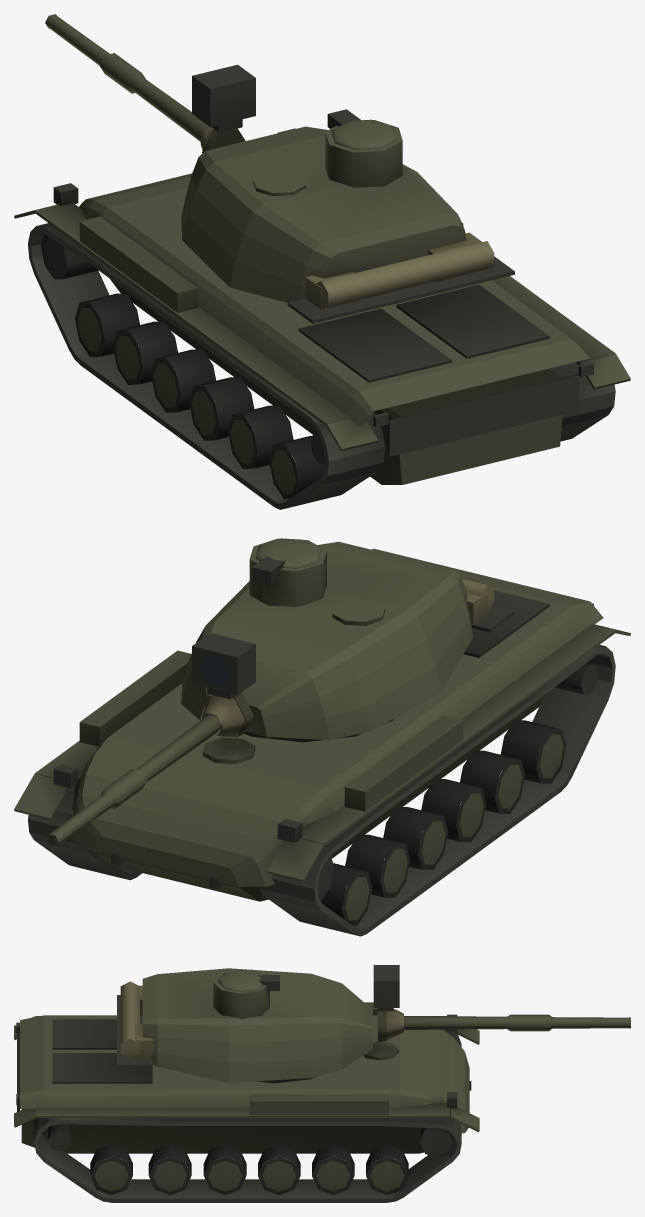
The picture shows the model from 3 angles, top to bottom: view 1: azimuth 30°, elevation 25°; view 2: azimuth 150°, elevation 25°; view 3: azimuth 270°, elevation 25°; orthographic projection. The views are drawn at different scales.
Parts seen in each view (by area): view 1: Hull_M60_Paint, TurretYaw_M60_Paint, Hull_M60_DarkSteel, LeftTrack_M60_TrackSteel, LeftTrack_Motion_M60_Rubber, TurretYaw_M60_Canvas, LeftTrack_Motion_M60_Paint, BarrelRecoil_M60_Paint, GunPitch_M60_DarkSteel, TurretYaw_M60_DarkSteel, RightTrack_M60_TrackSteel, LeftTrack_Motion_M60_DarkSteel; view 2: Hull_M60_Paint, TurretYaw_M60_Paint, LeftTrack_M60_TrackSteel, LeftTrack_Motion_M60_Rubber, LeftTrack_Motion_M60_Paint, BarrelRecoil_M60_Paint, Hull_M60_DarkSteel, GunPitch_M60_DarkSteel, RightTrack_M60_TrackSteel, TurretYaw_M60_DarkSteel, LeftTrack_Motion_M60_DarkSteel, GunPitch_M60_Canvas (+2 smaller); view 3: Hull_M60_Paint, TurretYaw_M60_Paint, RightTrack_M60_TrackSteel, RightTrack_Motion_M60_Rubber, Hull_M60_DarkSteel, RightTrack_Motion_M60_Paint, BarrelRecoil_M60_Paint, TurretYaw_M60_Canvas, RightTrack_Motion_M60_DarkSteel, GunPitch_M60_DarkSteel, TurretYaw_M60_DarkSteel, GunPitch_M60_Canvas.
Part boxes in pixels (x1,y1,x2,y2): Hull_M60_Paint: (14, 173, 630, 484); TurretYaw_M60_Paint: (181, 119, 466, 302); Hull_M60_DarkSteel: (53, 128, 593, 456); LeftTrack_M60_TrackSteel: (28, 223, 384, 509); LeftTrack_Motion_M60_Rubber: (75, 293, 325, 499); TurretYaw_M60_Canvas: (305, 232, 494, 309); LeftTrack_Motion_M60_Paint: (77, 308, 295, 493); BarrelRecoil_M60_Paint: (45, 14, 211, 141); GunPitch_M60_DarkSteel: (192, 64, 255, 132); TurretYaw_M60_DarkSteel: (287, 109, 514, 323); RightTrack_M60_TrackSteel: (549, 362, 615, 441); LeftTrack_Motion_M60_DarkSteel: (41, 234, 325, 463); Hull_M60_Paint: (14, 548, 630, 901); TurretYaw_M60_Paint: (181, 538, 473, 739); LeftTrack_M60_TrackSteel: (259, 645, 615, 936); LeftTrack_Motion_M60_Rubber: (321, 720, 566, 925); LeftTrack_Motion_M60_Paint: (345, 734, 563, 920); BarrelRecoil_M60_Paint: (49, 714, 221, 847); Hull_M60_DarkSteel: (53, 590, 593, 888); GunPitch_M60_DarkSteel: (192, 633, 255, 699); RightTrack_M60_TrackSteel: (28, 785, 142, 880); TurretYaw_M60_DarkSteel: (252, 556, 514, 632); LeftTrack_Motion_M60_DarkSteel: (317, 663, 597, 900); GunPitch_M60_Canvas: (200, 695, 245, 736); Hull_M60_Paint: (14, 1002, 479, 1153); TurretYaw_M60_Paint: (142, 968, 372, 1082); RightTrack_M60_TrackSteel: (34, 1118, 461, 1202); RightTrack_Motion_M60_Rubber: (90, 1144, 408, 1195); Hull_M60_DarkSteel: (16, 1014, 471, 1111); RightTrack_Motion_M60_Paint: (94, 1160, 404, 1191); BarrelRecoil_M60_Paint: (404, 1014, 630, 1031); TurretYaw_M60_Canvas: (120, 981, 153, 1058); RightTrack_Motion_M60_DarkSteel: (48, 1124, 456, 1158); GunPitch_M60_DarkSteel: (373, 965, 399, 1011); TurretYaw_M60_DarkSteel: (117, 975, 279, 1067); GunPitch_M60_Canvas: (386, 1009, 403, 1039).
Size of the model in its own units: 3.66 by 3.23 by 9.53.
